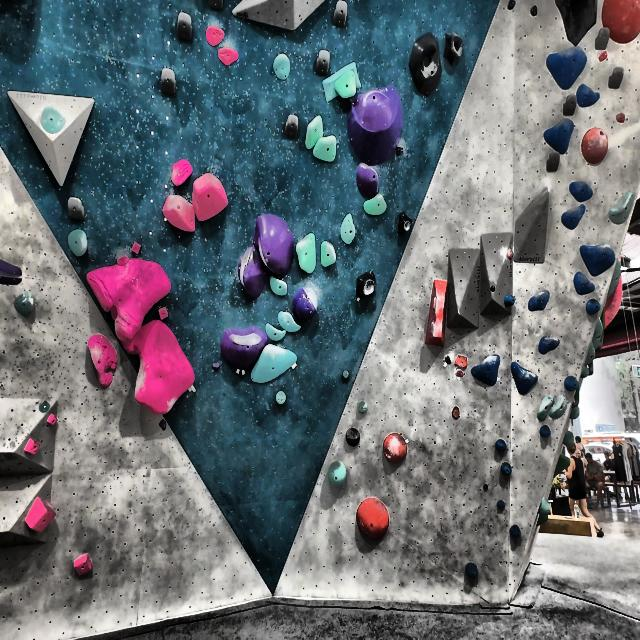Hold: (118, 318, 193, 422), (83, 264, 177, 342), (349, 84, 402, 162), (254, 207, 299, 280), (409, 32, 443, 99), (222, 326, 269, 372), (250, 343, 299, 387), (552, 0, 599, 45), (83, 339, 125, 388), (545, 44, 587, 90), (193, 172, 232, 220), (425, 276, 448, 351), (601, 0, 640, 43), (238, 244, 266, 301), (355, 497, 392, 540), (162, 186, 196, 232), (23, 495, 62, 535), (325, 61, 361, 103), (606, 262, 626, 332), (580, 245, 618, 277), (544, 118, 574, 156), (580, 125, 610, 163), (471, 353, 503, 387), (312, 132, 342, 167), (609, 190, 636, 228), (37, 103, 68, 136), (0, 257, 29, 292), (294, 230, 316, 276), (355, 160, 381, 198), (292, 283, 318, 320), (511, 359, 537, 396), (68, 549, 96, 582), (381, 431, 409, 463), (443, 28, 465, 68), (169, 155, 196, 187), (337, 211, 359, 249), (305, 115, 327, 152), (560, 205, 588, 234), (65, 229, 92, 259), (12, 291, 38, 321), (364, 195, 390, 224), (272, 49, 293, 84), (213, 44, 242, 68), (280, 114, 303, 144), (608, 253, 622, 300), (356, 270, 376, 302), (576, 84, 602, 108), (321, 238, 339, 272), (64, 190, 85, 219), (568, 273, 597, 294), (332, 0, 352, 29), (203, 24, 228, 47), (314, 51, 336, 77), (570, 180, 596, 202), (276, 310, 301, 332), (175, 10, 192, 42), (328, 460, 347, 488), (527, 289, 551, 311), (536, 334, 560, 356), (579, 341, 601, 365), (550, 394, 569, 421), (20, 438, 43, 460), (606, 66, 626, 91), (552, 450, 570, 477), (161, 68, 176, 100), (560, 92, 578, 118), (264, 324, 288, 342), (34, 397, 56, 416), (454, 355, 471, 379), (397, 211, 413, 236), (583, 298, 602, 319), (594, 26, 611, 49), (536, 398, 551, 423), (465, 561, 481, 584), (345, 426, 362, 446), (48, 412, 62, 436), (564, 374, 582, 392), (509, 521, 524, 542), (561, 430, 577, 448), (503, 243, 518, 262), (538, 495, 551, 515), (493, 438, 508, 455), (536, 514, 554, 528), (568, 404, 580, 422), (578, 363, 589, 381), (501, 462, 513, 478), (504, 291, 515, 308), (275, 391, 288, 405), (614, 110, 627, 124), (450, 405, 461, 420), (528, 4, 540, 17), (540, 424, 551, 438), (357, 400, 367, 415), (495, 499, 507, 511), (506, 0, 516, 13), (342, 369, 350, 380), (398, 144, 406, 155), (599, 52, 606, 64)
